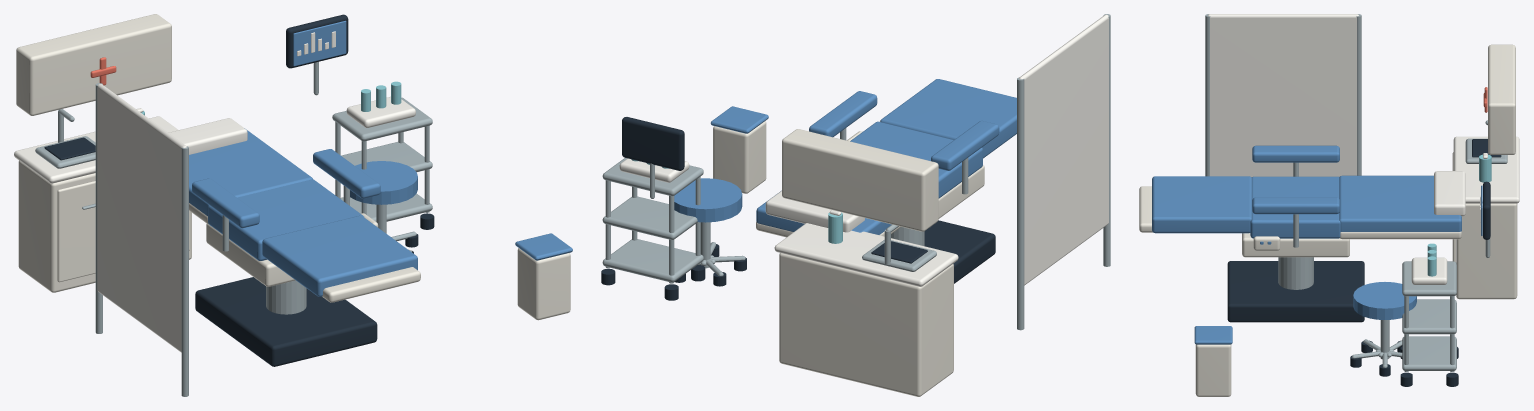
File: NursingStation_2.fbx
The picture shows the model from 3 angles, left to right: view 1: azimuth 30°, elevation 25°; view 2: azimuth 150°, elevation 25°; view 3: azimuth 270°, elevation 25°; orthographic projection. The views are drawn at different scales.
Visible parts, largest first — view 1: Privacy screen.001, Upper supply cabinet.001, Chair bed floor base.001, Legrest cushion.001, Seat upholstery.001, Supply base cabinet.001, Backrest cushion.001, Cabinet door.002, Clinical waste bin.001, Privacy frame.002, Stool seat.001, Cabinet countertop.001 (+16 smaller); view 2: Supply base cabinet.001, Privacy screen.001, Upper supply cabinet.001, Legrest cushion.001, Cabinet countertop.001, Clinical waste bin.001, Seat upholstery.001, Patient monitor.001, Trolley shelf.003, Chair bed floor base.001, Trolley shelf.004, Stool seat.001 (+13 smaller); view 3: Privacy screen.001, Chair bed floor base.001, Backrest cushion.001, Legrest cushion.001, Supply base cabinet.001, Seat upholstery.001, Upper supply cabinet.001, Cabinet countertop.001, Clinical waste bin.001, Stool seat.001, Lift chassis.001, Trolley shelf.003 (+16 smaller).
Boxes of the visible parts, x1=… form: Privacy screen.001: x1=97, y1=83, x2=186, y2=352; Upper supply cabinet.001: x1=16, y1=14, x2=171, y2=115; Chair bed floor base.001: x1=195, y1=277, x2=377, y2=366; Legrest cushion.001: x1=262, y1=215, x2=417, y2=296; Seat upholstery.001: x1=208, y1=179, x2=363, y2=260; Supply base cabinet.001: x1=18, y1=160, x2=191, y2=292; Backrest cushion.001: x1=189, y1=128, x2=312, y2=216; Cabinet door.002: x1=57, y1=181, x2=95, y2=282; Clinical waste bin.001: x1=517, y1=248, x2=570, y2=320; Privacy frame.002: x1=181, y1=146, x2=188, y2=396; Stool seat.001: x1=350, y1=161, x2=417, y2=204; Cabinet countertop.001: x1=14, y1=116, x2=178, y2=183; Supply base cabinet.001: x1=779, y1=253, x2=953, y2=396; Privacy screen.001: x1=1019, y1=14, x2=1108, y2=285; Upper supply cabinet.001: x1=782, y1=129, x2=938, y2=231; Legrest cushion.001: x1=880, y1=79, x2=1016, y2=158; Cabinet countertop.001: x1=774, y1=223, x2=958, y2=286; Clinical waste bin.001: x1=713, y1=121, x2=766, y2=193; Seat upholstery.001: x1=850, y1=121, x2=982, y2=198; Patient monitor.001: x1=622, y1=117, x2=684, y2=170; Trolley shelf.003: x1=602, y1=239, x2=703, y2=282; Chair bed floor base.001: x1=924, y1=220, x2=995, y2=283; Trolley shelf.004: x1=602, y1=196, x2=697, y2=239; Stool seat.001: x1=674, y1=178, x2=742, y2=222; Privacy screen.001: x1=1208, y1=14, x2=1358, y2=177; Chair bed floor base.001: x1=1227, y1=261, x2=1364, y2=322; Backrest cushion.001: x1=1339, y1=175, x2=1461, y2=231; Legrest cushion.001: x1=1152, y1=176, x2=1251, y2=233; Supply base cabinet.001: x1=1456, y1=203, x2=1517, y2=299; Seat upholstery.001: x1=1250, y1=176, x2=1340, y2=238; Upper supply cabinet.001: x1=1488, y1=44, x2=1515, y2=154; Cabinet countertop.001: x1=1453, y1=136, x2=1519, y2=203; Clinical waste bin.001: x1=1195, y1=344, x2=1231, y2=396; Stool seat.001: x1=1353, y1=282, x2=1416, y2=319; Lift chassis.001: x1=1242, y1=233, x2=1349, y2=257; Trolley shelf.003: x1=1402, y1=336, x2=1456, y2=370.
Bounding box in the file's own units: 304 × 193 × 300.
